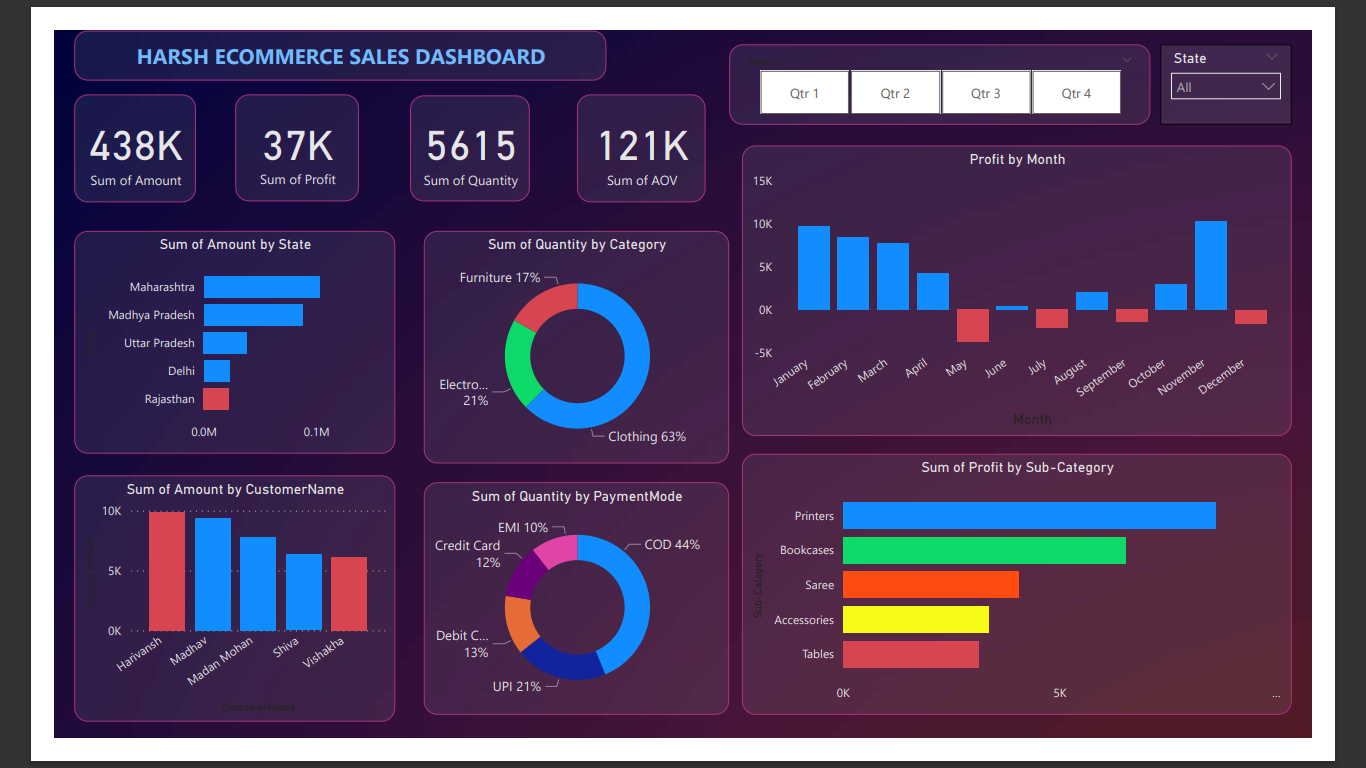

What the dashboard file says about the page in this screenshot:
{"tool":"powerbi","page":{"name":"Page 1","canvas":[1280,720],"ordinal":0},"visuals":[{"type":"textbox","box":[19.8,0,541.8,50.9],"z":0},{"type":"columnChart","title":"Profit by Month","fields":{"Category":["Orders.Order Date.Variation.Date Hierarchy.Month"],"Y":["Details.Profit"]},"box":[700.2,117.4,560.2,295.6],"z":1},{"type":"barChart","fields":{"Category":["Details.Sub-Category"],"Y":["Details.Profit"]},"box":[700.2,431.4,560.2,265.9],"z":2},{"type":"donutChart","fields":{"Category":["Details.Category"],"Y":["Details.Quantity"]},"box":[376.3,203.7,311.2,237.6],"z":3},{"type":"donutChart","fields":{"Category":["Details.PaymentMode"],"Y":["Details.Quantity"]},"box":[376.3,459.7,311.2,237.6],"z":4},{"type":"card","fields":{"Values":["Details.Amount"]},"box":[19.8,65.1,124.5,110.3],"z":5},{"type":"card","fields":{"Values":["Details.Profit"]},"box":[183.9,65.1,125.9,108.9],"z":6},{"type":"card","fields":{"Values":["Details.Quantity"]},"box":[362.1,66.5,121.7,107.5],"z":7},{"type":"card","fields":{"Values":["Details.AOV"]},"box":[531.9,65.1,131.6,110.3],"z":8},{"type":"barChart","fields":{"Category":["Orders.State"],"Y":["Details.Amount"]},"box":[19.8,203.7,326.8,227.7],"z":9},{"type":"columnChart","fields":{"Category":["Orders.CustomerName"],"Y":["Details.Amount"]},"box":[19.8,452.7,326.8,251.8],"z":10},{"type":"slicer","fields":{"Values":["Orders.Order Date.Variation.Date Hierarchy.Quarter"]},"box":[687.5,14.1,428.6,82],"z":11},{"type":"slicer","fields":{"Values":["Orders.State"]},"box":[1126,14.1,134.4,82],"z":12}]}

Visuals, with their boxes in screenshot pixels (x1, y1, x2, y2), scaled from the page's 1280x720 canvas onto the 1366x768 screenshot:
textbox: select_region(21, 0, 599, 54)
"Profit by Month" columnChart: select_region(747, 125, 1345, 441)
barChart - Details.Sub-Category x Details.Profit: select_region(747, 460, 1345, 744)
donutChart - Details.Category x Details.Quantity: select_region(402, 217, 734, 471)
donutChart - Details.PaymentMode x Details.Quantity: select_region(402, 490, 734, 744)
card - Details.Amount: select_region(21, 69, 154, 187)
card - Details.Profit: select_region(196, 69, 331, 186)
card - Details.Quantity: select_region(386, 71, 516, 186)
card - Details.AOV: select_region(568, 69, 708, 187)
barChart - Orders.State x Details.Amount: select_region(21, 217, 370, 460)
columnChart - Orders.CustomerName x Details.Amount: select_region(21, 483, 370, 751)
slicer - Orders.Order Date.Variation.Date Hierarchy.Quarter: select_region(734, 15, 1191, 103)
slicer - Orders.State: select_region(1202, 15, 1345, 103)
